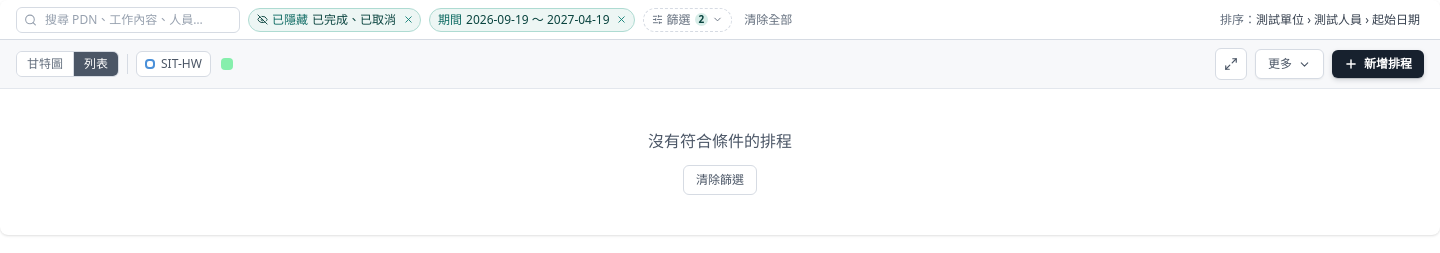
Test case: 列表篩選後沒結果 › 透過 GanttChart：清除篩選後列表出現排程
This screenshot has width=1440, height=253.
Expected: the message shows "沒有符合條件的排程", [648,130,792,195]
Click the button "清除篩選". click: coordinates (720, 180)
box: [683,165,757,195]
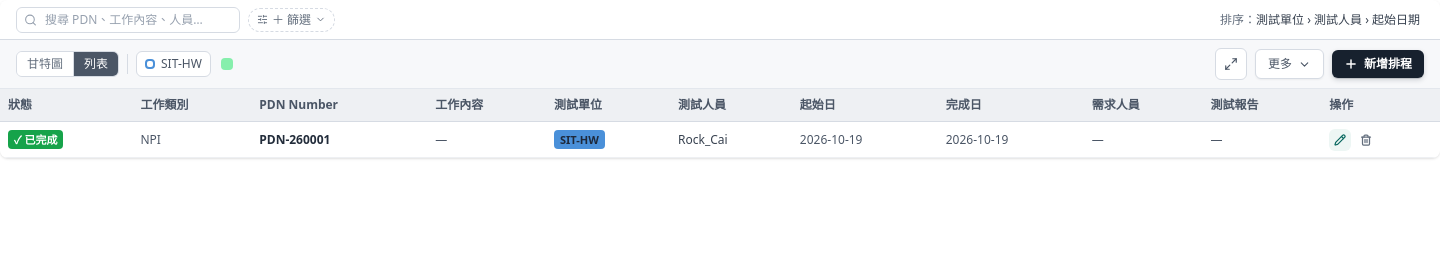
Expected: the text "沒有符合條件的排程" is gone
Expected: the cell titled "PDN-260001" is shown, [251,122,427,158]
